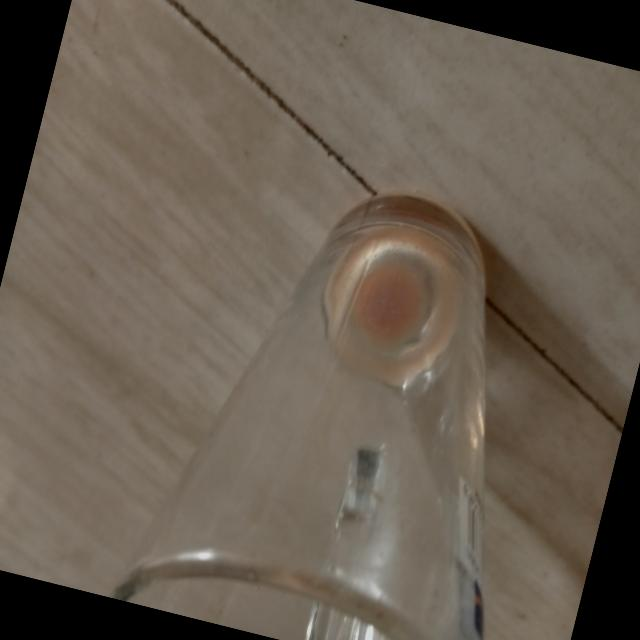glass-VX4N: (104, 134, 600, 640)
